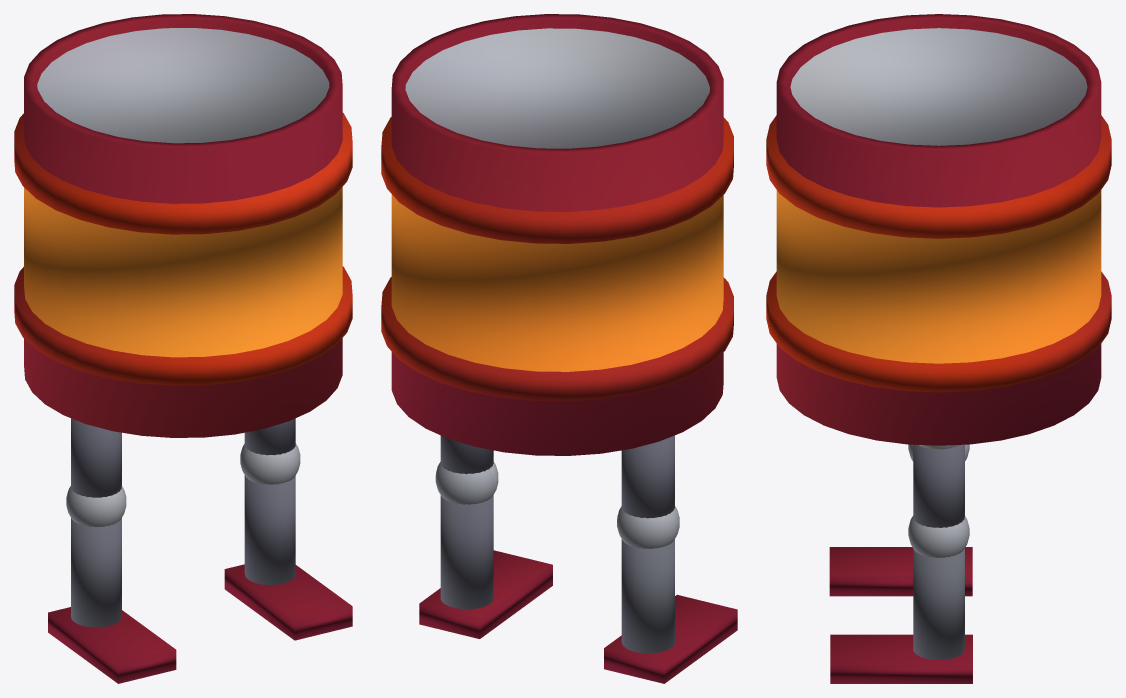
File: dummy.glb
3 views of the same model, side by side, from view 1: azimuth 30°, elevation 25°; view 2: azimuth 150°, elevation 25°; view 3: azimuth 270°, elevation 25° (orthographic). The views are drawn at different scales.
Parts seen in each view (by area): view 1: Body, Foot.L.001, Foot.L, Lower Leg.L, Lower Leg.L.001, Upper Leg.L.001, Knee.L, Knee.L.001, Upper Leg.L; view 2: Body, Lower Leg.L, Lower Leg.L.001, Foot.L.001, Foot.L, Upper Leg.L.001, Knee.L, Knee.L.001, Upper Leg.L; view 3: Body, Foot.L, Lower Leg.L, Foot.L.001, Upper Leg.L, Knee.L.
Part boxes in pixels (x1,y1,x2,y2): Body: (14, 14, 352, 437); Foot.L.001: (48, 607, 176, 683); Foot.L: (224, 564, 352, 640); Lower Leg.L: (244, 475, 295, 584); Lower Leg.L.001: (71, 518, 121, 627); Upper Leg.L.001: (71, 418, 121, 497); Knee.L: (240, 443, 300, 484); Knee.L.001: (66, 486, 126, 526); Upper Leg.L: (244, 418, 295, 455); Body: (381, 14, 733, 455); Lower Leg.L: (440, 495, 493, 609); Lower Leg.L.001: (621, 539, 674, 653); Foot.L.001: (604, 594, 737, 683); Foot.L: (419, 550, 552, 638); Upper Leg.L.001: (621, 435, 674, 518); Knee.L: (435, 462, 498, 504); Knee.L.001: (617, 506, 679, 548); Upper Leg.L: (440, 435, 493, 474); Body: (766, 14, 1111, 445); Foot.L: (830, 634, 972, 683); Lower Leg.L: (913, 548, 964, 659); Foot.L.001: (829, 547, 972, 596); Upper Leg.L: (913, 444, 964, 527); Knee.L: (908, 515, 969, 557).
Size of the model in its own units: 2.12 by 3.69 by 2.12.
1 material, 1 textured.
